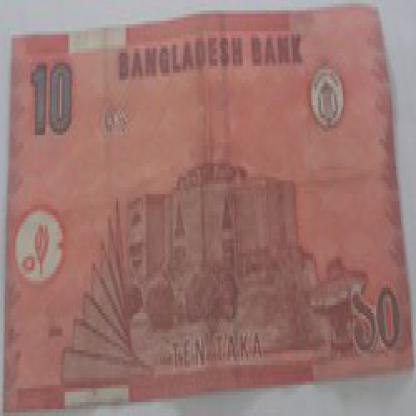Ten Taka: (23, 56, 83, 146), (340, 267, 400, 354)
